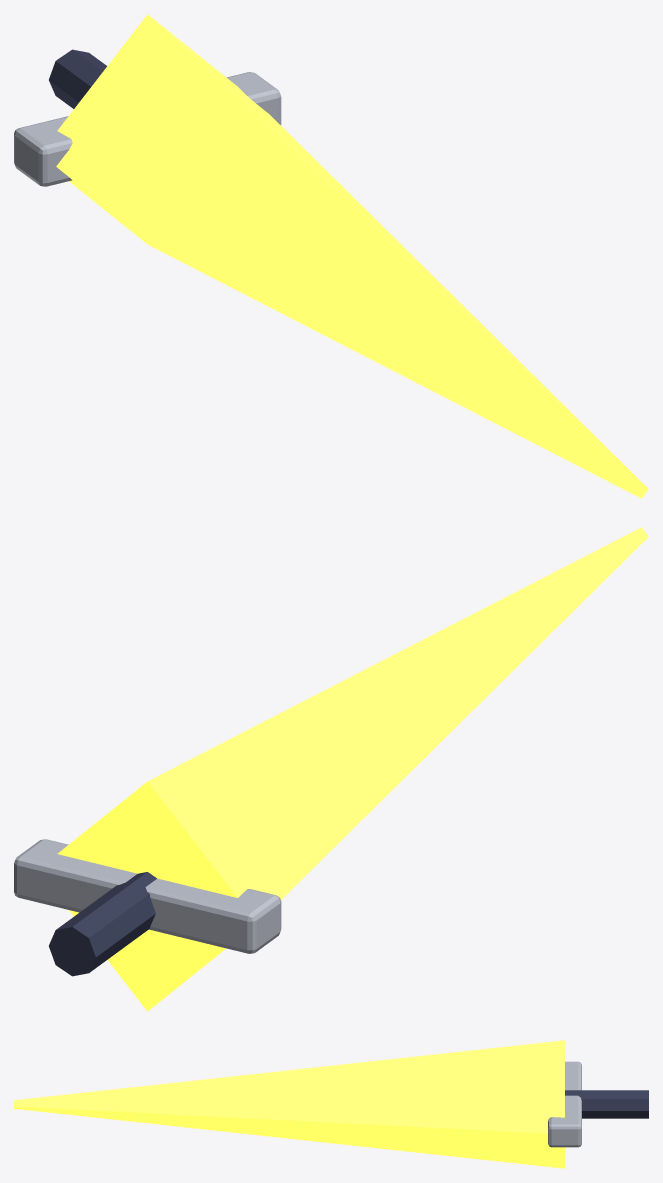
Rendered from SM_Riven_ExtendedBlade.fbx.
The picture shows the model from 3 angles, top to bottom: view 1: azimuth 30°, elevation 25°; view 2: azimuth 150°, elevation 25°; view 3: azimuth 270°, elevation 25°; orthographic projection. The views are drawn at different scales.
Parts seen in each view (by area): view 1: SM_Riven_ExtendedBlade; view 2: SM_Riven_ExtendedBlade; view 3: SM_Riven_ExtendedBlade.
Boxes of the visible parts, x1,y1,x2,y2 form: SM_Riven_ExtendedBlade: (14,14,648,498); SM_Riven_ExtendedBlade: (14,527,648,1011); SM_Riven_ExtendedBlade: (14,1040,648,1168).
Size of the model in its own units: 29.7 by 121 by 27.
